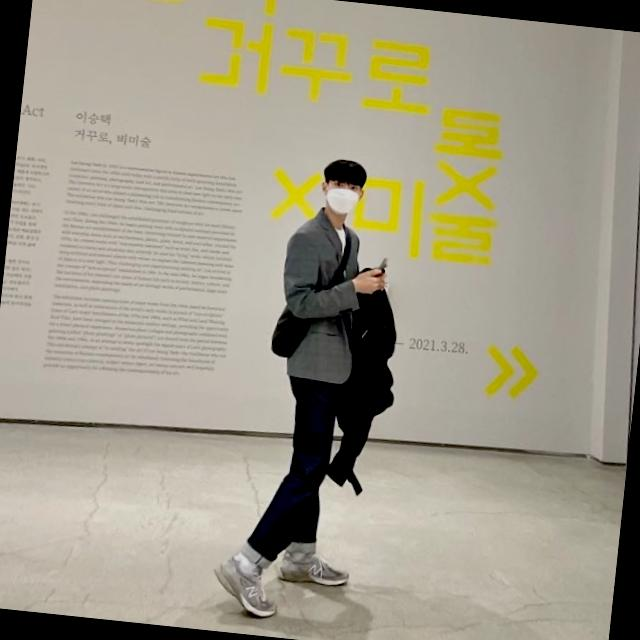blazer: (273, 200, 371, 388)
denimpants: (238, 340, 344, 572)
